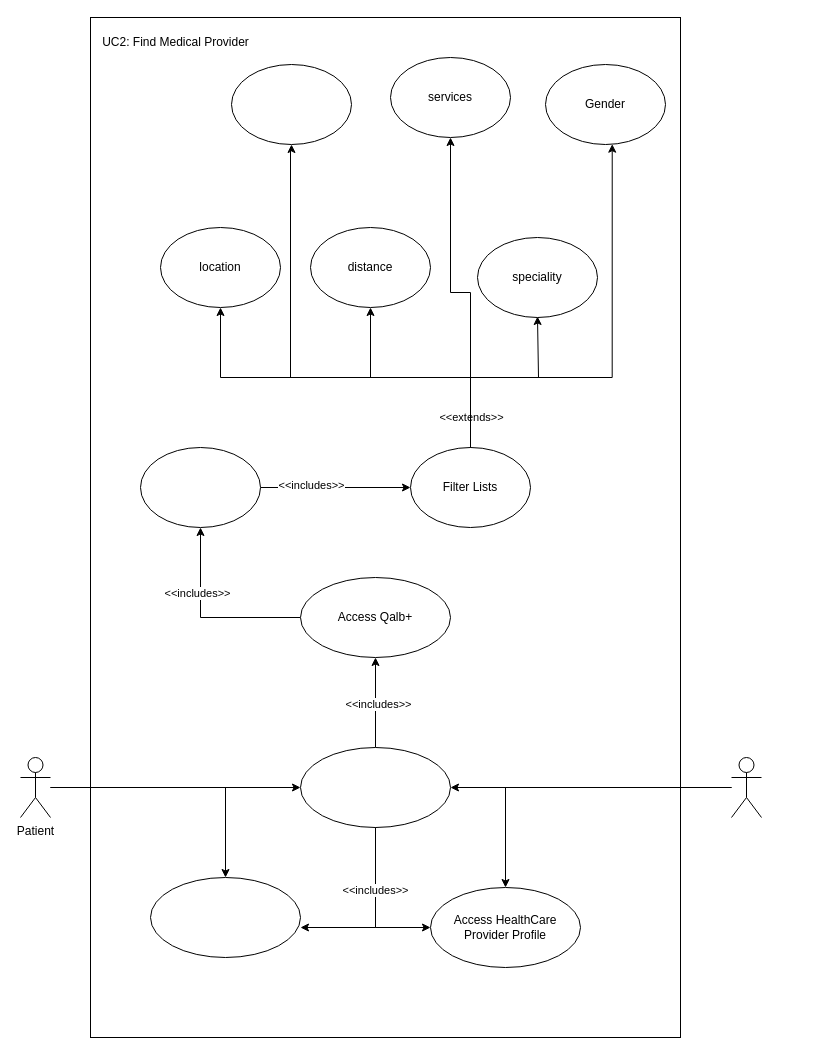
The diagram is 820 pixels wide and 1055 high, and some of its shapes have lost their labels. Each missing label, with the centre of its shape:
Access Patient Profile: the point at 225,917
Find Medical Providers: the point at 200,487
Health Care Provider: the point at 746,787
Hours of operation: the point at 291,104
System Login: the point at 375,787
